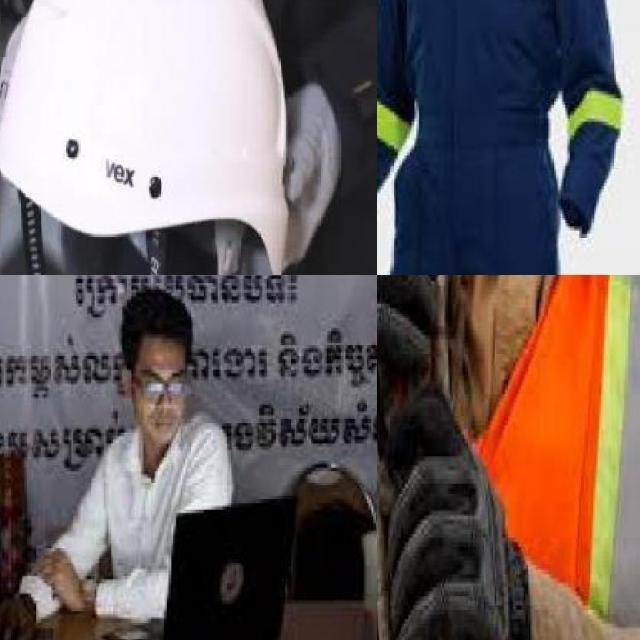apron: (377, 399, 532, 640)
